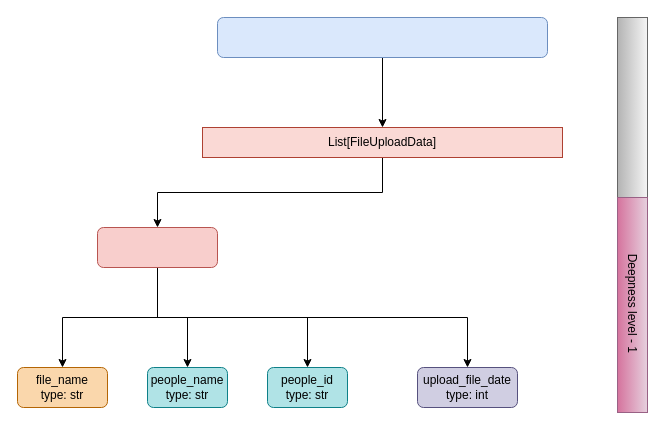
Some shapes in this 665 by 430 pixel diagram are drawn without their labels. The shapes that lost their labels are listed below. From the top down, each one's centre as x and y in pixels, then its label:
At point 382,37: "document_section_files_list_uploaded_data".
At point 632,107: "Deepness level - 0".
At point 157,247: "FileUploadData".
